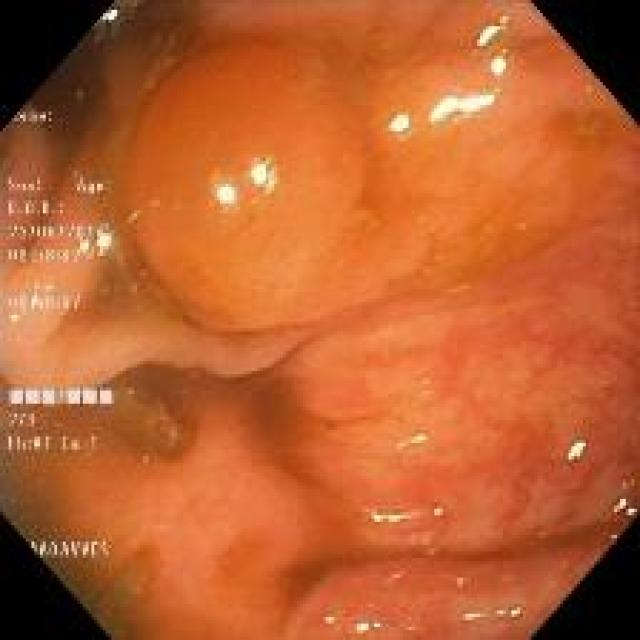Polyps: (130, 42, 400, 331)
